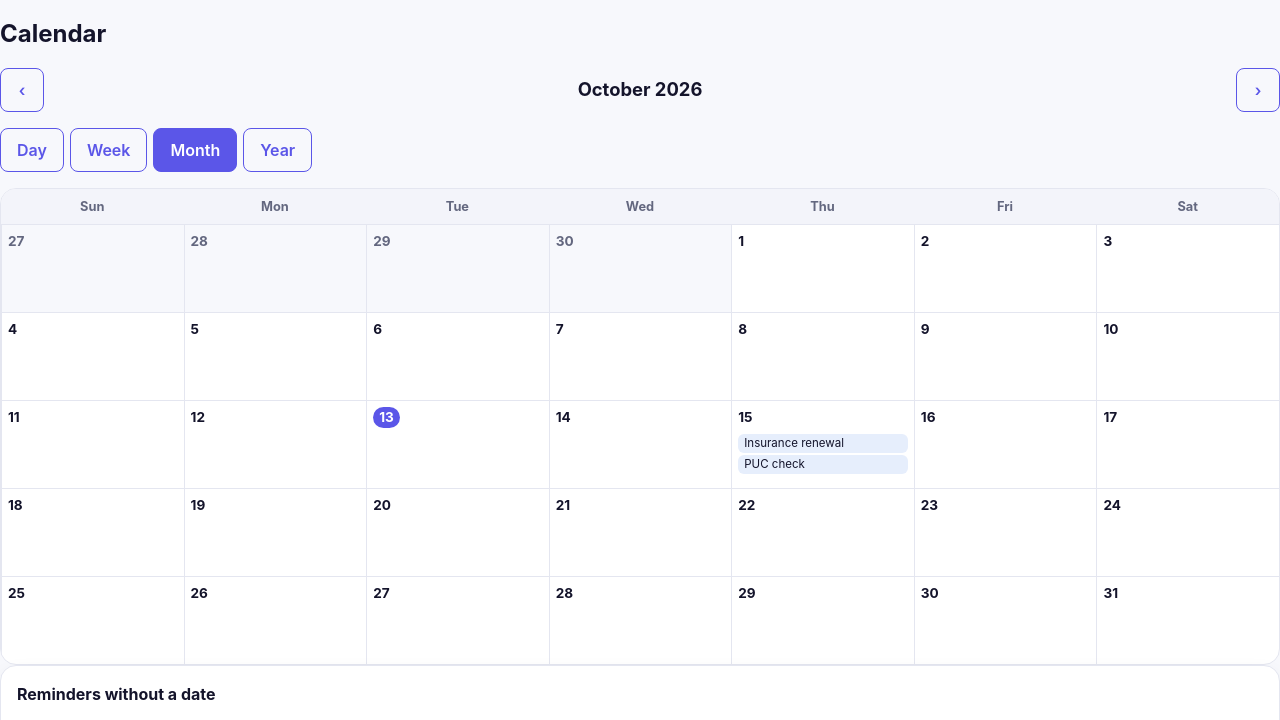
Calendar views (Base design) › opens the month when a month in the year view is chosen
This screenshot has width=1280, height=720.
Click the button "Year" at (278, 150), box [243, 128, 312, 172]
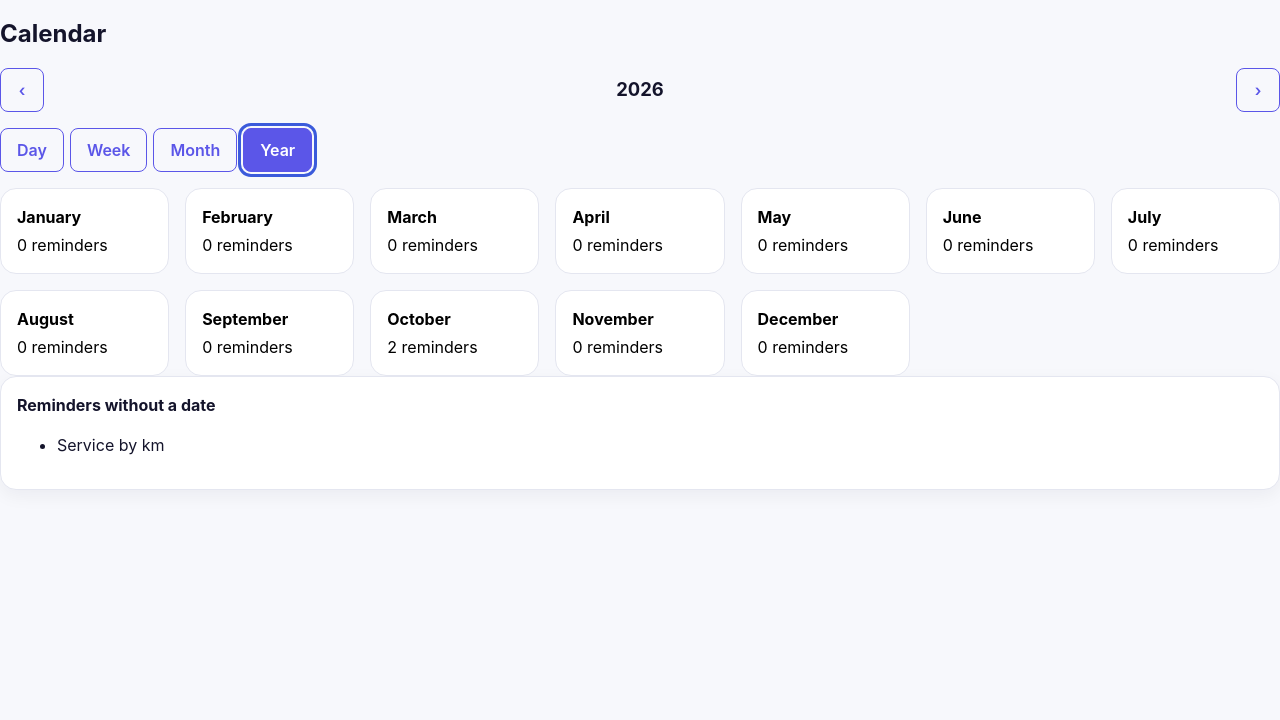
Click the button with aria-label "November 2026, 0 reminders" at (640, 333), box [555, 290, 724, 376]
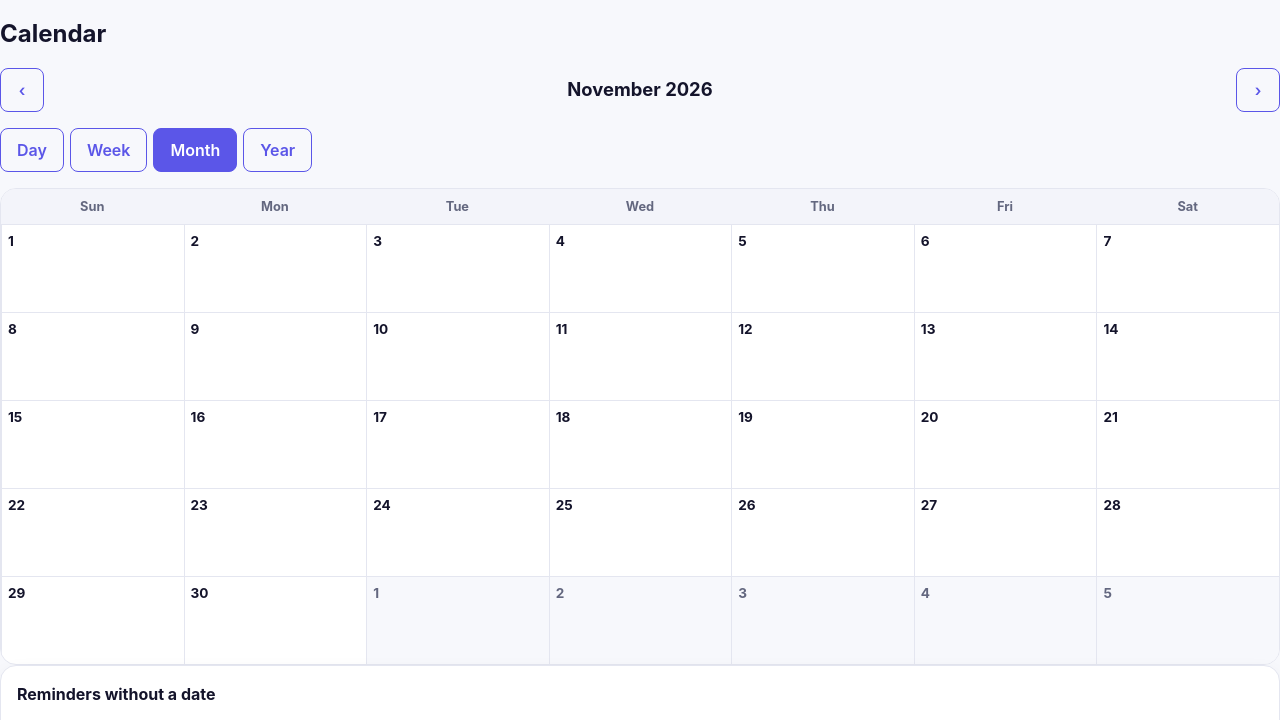
Check: the heading "November 2026" is shown, box [567, 76, 713, 104]
